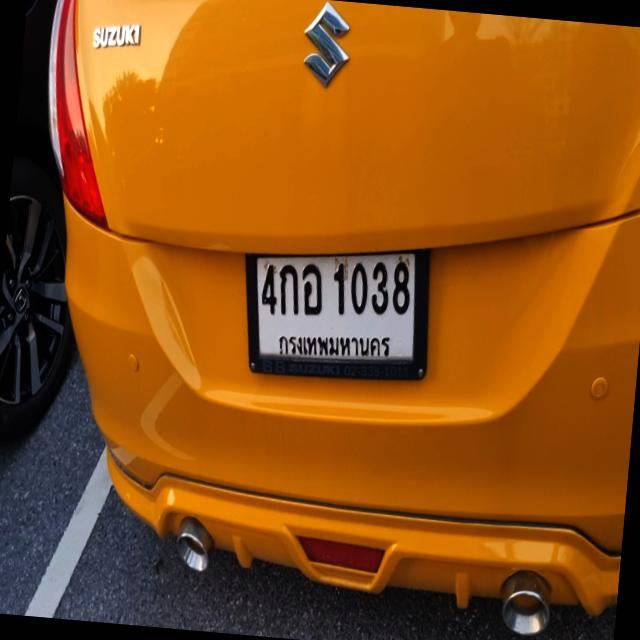license_plate: (234, 228, 438, 396)
